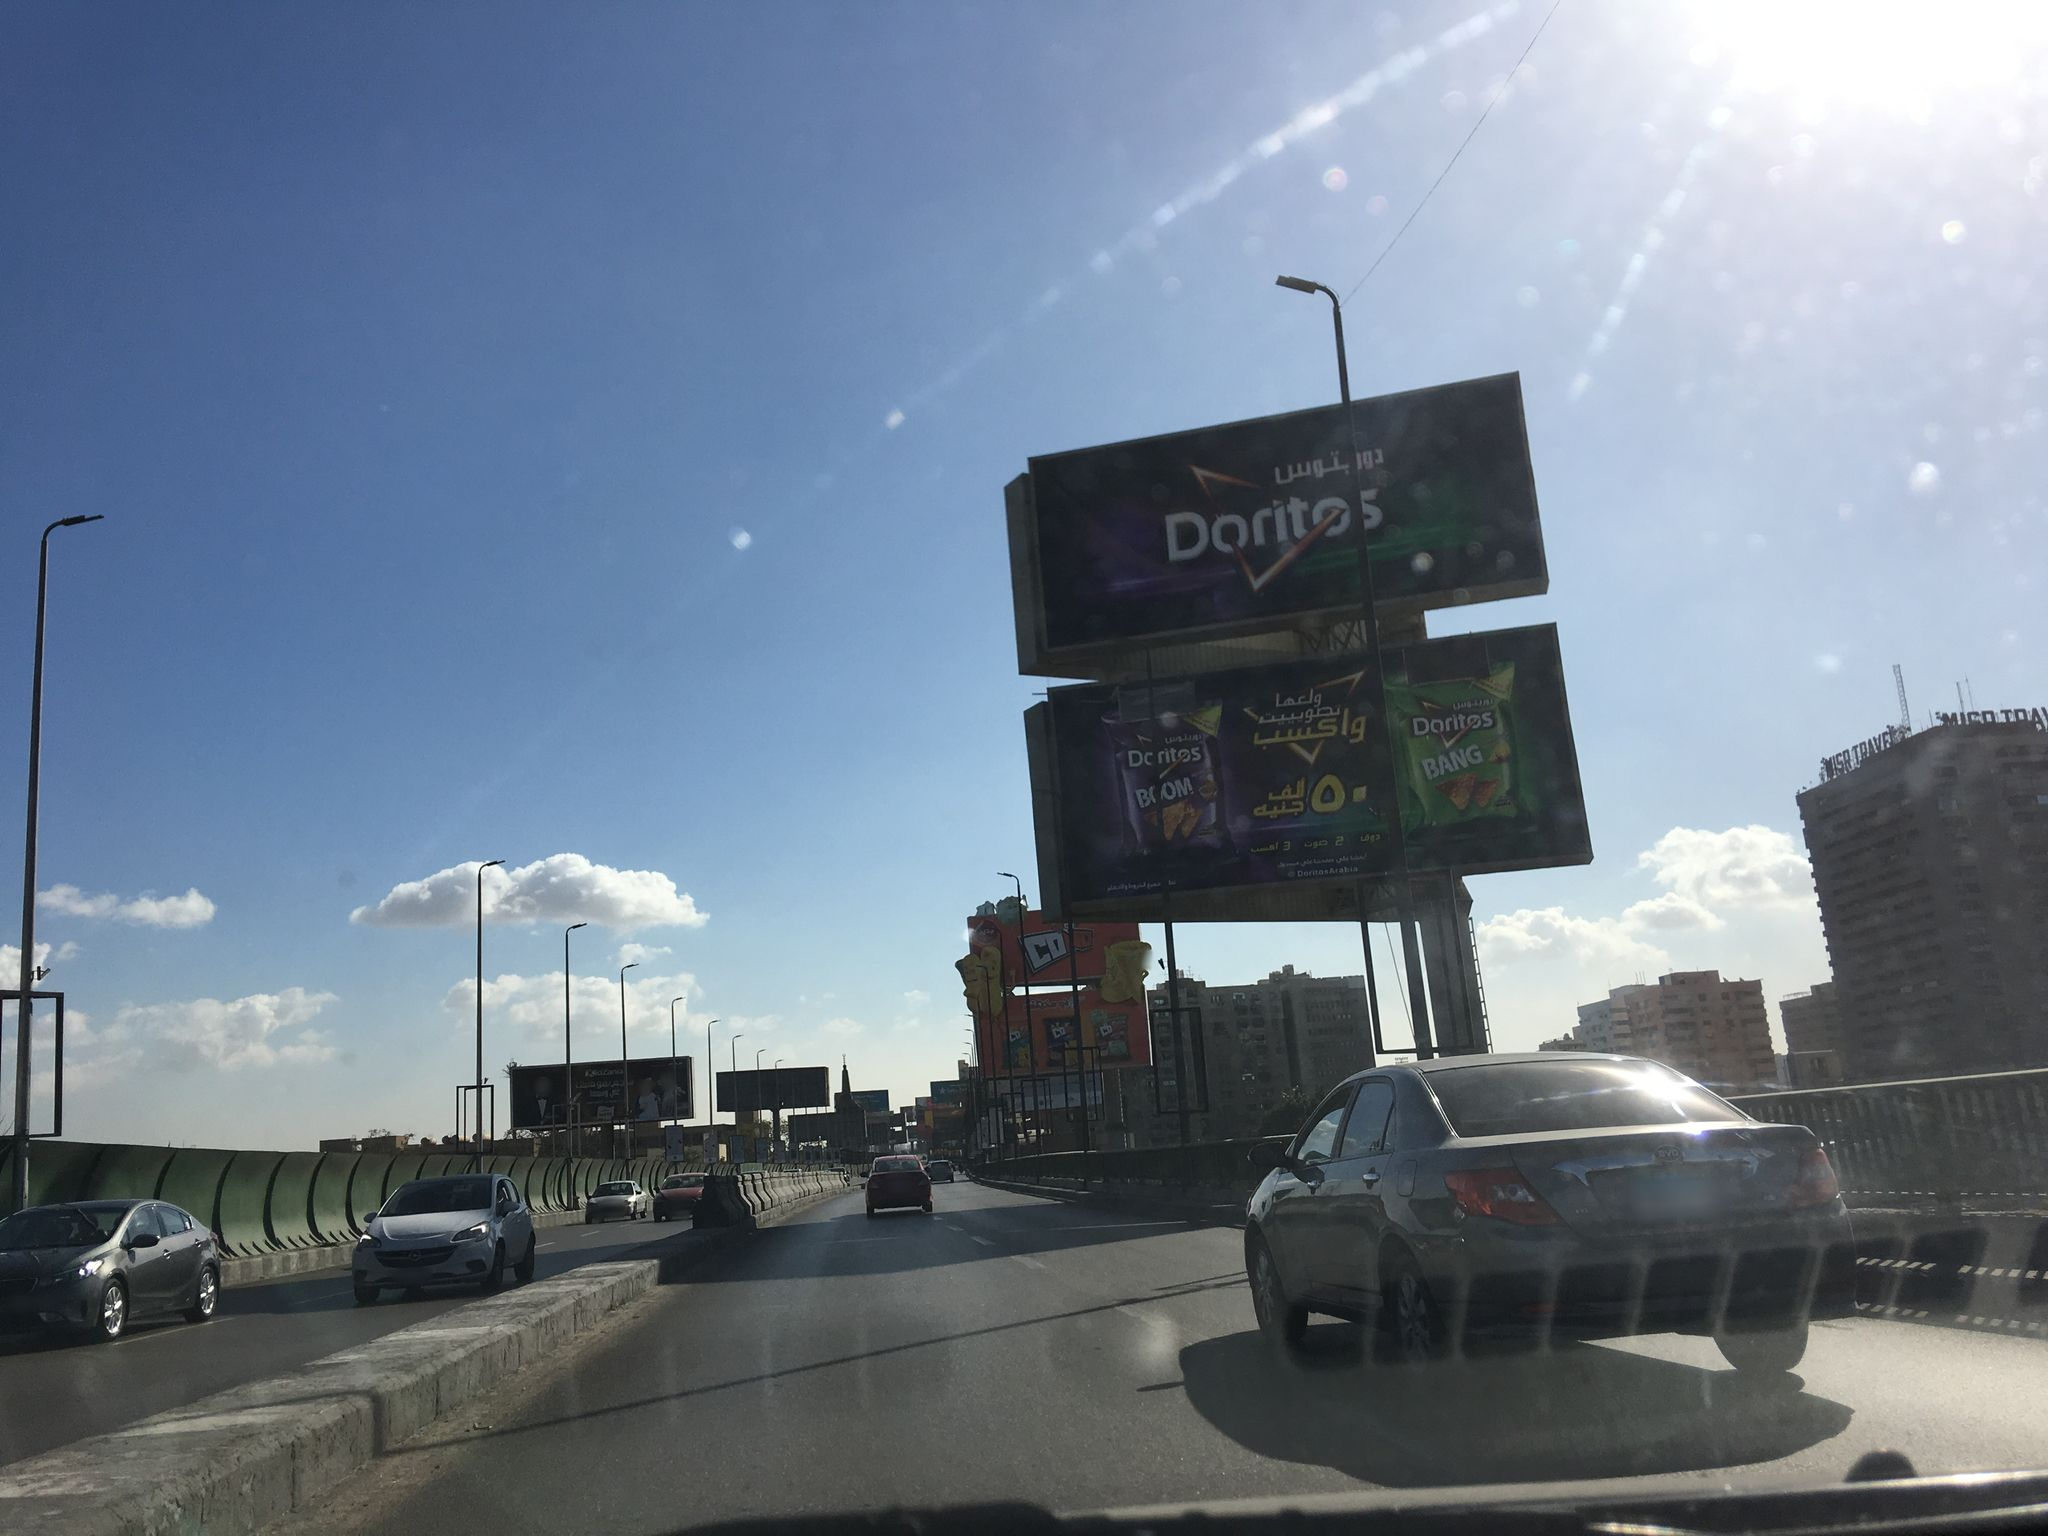car: (1243, 1052, 1858, 1378), (0, 1197, 219, 1339), (352, 1171, 535, 1291), (860, 1154, 934, 1213), (651, 1171, 708, 1221), (584, 1179, 648, 1221), (926, 1160, 955, 1183)
